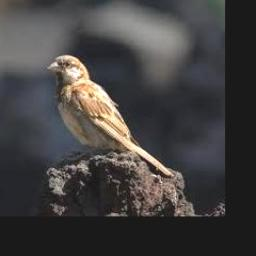Sparrow: (47, 54, 174, 178)
